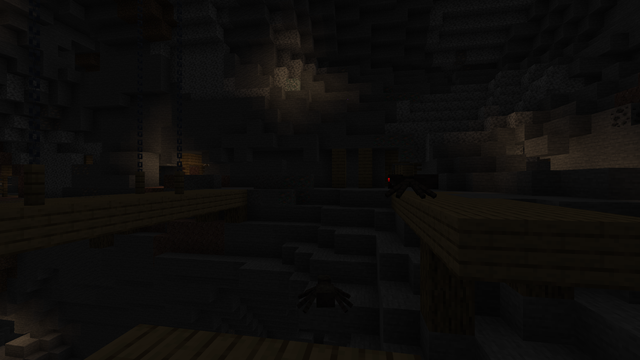araignees: (301, 271, 343, 314), (386, 171, 434, 198)
